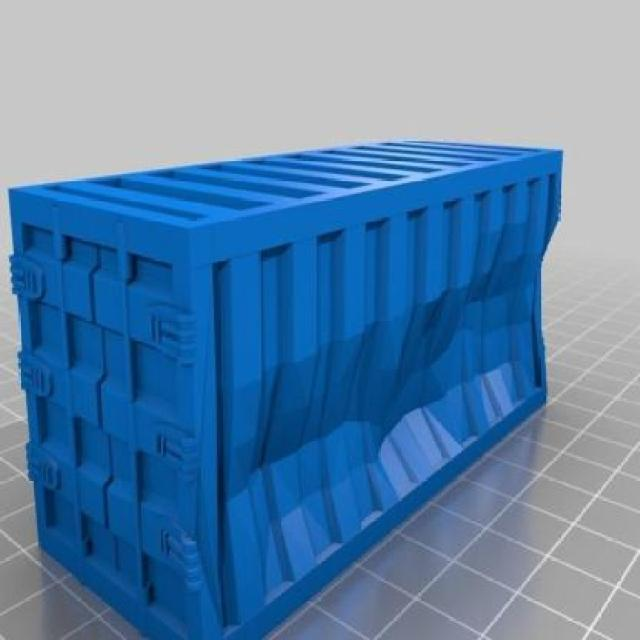Deframe: (486, 190, 570, 391)
Dent: (235, 290, 449, 483)
